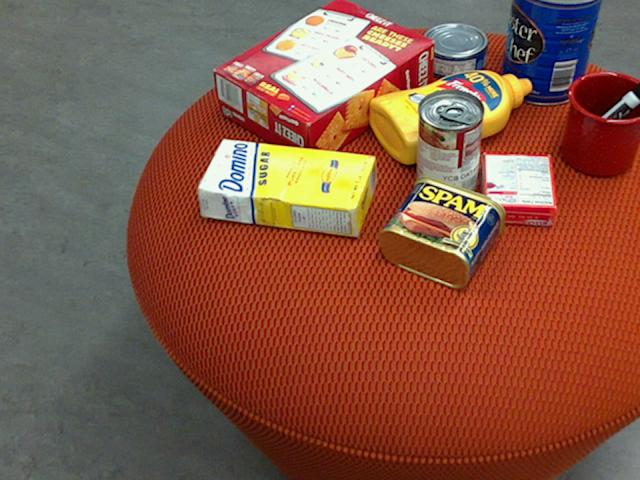cracker_box: (212, 0, 433, 166)
gelatin_box: (483, 153, 558, 227)
large_marker: (565, 80, 639, 157)
master_chef_can: (499, 0, 601, 104)
mug: (561, 71, 639, 176)
mustard_bottle: (368, 71, 531, 163)
potted_meat_can: (378, 174, 504, 287)
sugar_box: (194, 137, 375, 237)
tomato_soup_can: (416, 87, 483, 202)
tuna_fish_can: (419, 23, 487, 78)
